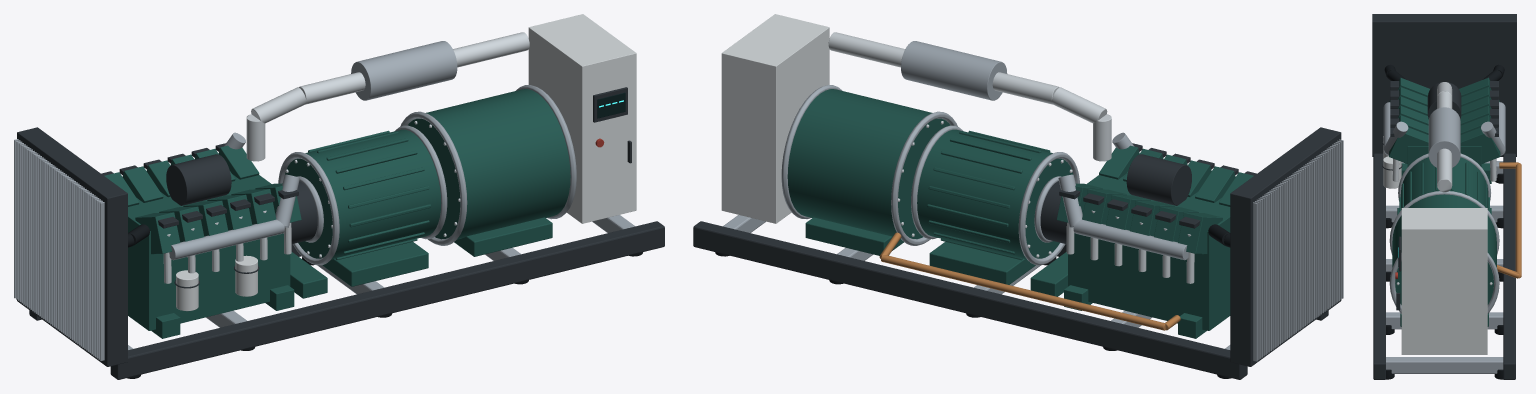
File: DRUPS.glb
3 views of the same model, side by side, from view 1: azimuth 30°, elevation 25°; view 2: azimuth 150°, elevation 25°; view 3: azimuth 270°, elevation 25° (orthographic). The views are drawn at different scales.
Visible parts, largest first — view 1: Engine_V12, Radiator, Flywheel, Alternator, Skid_and_isolators, Control_cabinet, Exhaust_and_service_pipes, Clutch; view 2: Engine_V12, Radiator, Flywheel, Alternator, Skid_and_isolators, Control_cabinet, Exhaust_and_service_pipes, Clutch; view 3: Control_cabinet, Radiator, Skid_and_isolators, Engine_V12, Exhaust_and_service_pipes, Flywheel, Alternator.
Part boxes in pixels (<box>): Engine_V12: <box>101,132,301,338</box>; Radiator: <box>14,127,149,366</box>; Flywheel: <box>400,85,576,256</box>; Alternator: <box>278,125,447,286</box>; Skid_and_isolators: <box>29,215,664,379</box>; Control_cabinet: <box>528,14,636,223</box>; Exhaust_and_service_pipes: <box>246,32,529,161</box>; Clutch: <box>290,176,327,298</box>; Engine_V12: <box>1056,132,1256,338</box>; Radiator: <box>1208,127,1343,366</box>; Flywheel: <box>781,85,957,255</box>; Alternator: <box>911,125,1079,284</box>; Skid_and_isolators: <box>693,215,1328,379</box>; Control_cabinet: <box>721,14,829,223</box>; Exhaust_and_service_pipes: <box>828,32,1180,330</box>; Clutch: <box>1030,176,1067,296</box>; Control_cabinet: <box>1395,208,1487,354</box>; Radiator: <box>1372,14,1516,156</box>; Skid_and_isolators: <box>1373,153,1515,379</box>; Engine_V12: <box>1382,77,1505,214</box>; Exhaust_and_service_pipes: <box>1428,82,1521,278</box>; Flywheel: <box>1389,191,1499,326</box>; Alternator: <box>1398,153,1490,211</box>.
Size of the model in its own units: 6.17 by 2.32 by 1.78.
